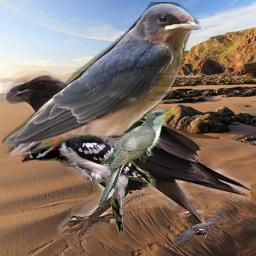Crow: (2, 70, 251, 244), (167, 216, 220, 249)
Cuckoo: (98, 109, 174, 207)
Swallow: (2, 2, 201, 163)
Woodpecker: (22, 128, 157, 238)
